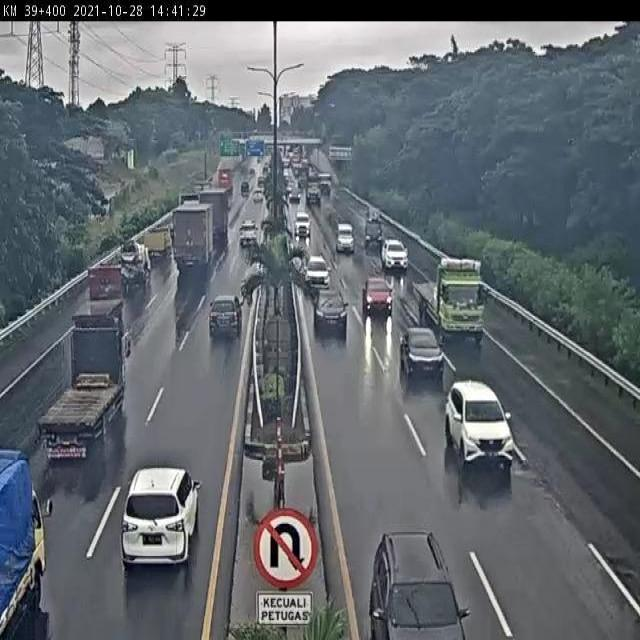car: (368, 530, 469, 640), (120, 467, 198, 565), (443, 380, 515, 469), (398, 327, 445, 381), (313, 289, 348, 335), (209, 295, 242, 340), (361, 279, 393, 316), (304, 255, 331, 289), (381, 240, 408, 272), (336, 223, 354, 252), (239, 220, 258, 245)
mid truck: (412, 257, 486, 343), (172, 202, 215, 266)
small truck: (143, 227, 172, 260)
truck-m-: (38, 323, 127, 453), (70, 267, 124, 329), (119, 238, 152, 290)
